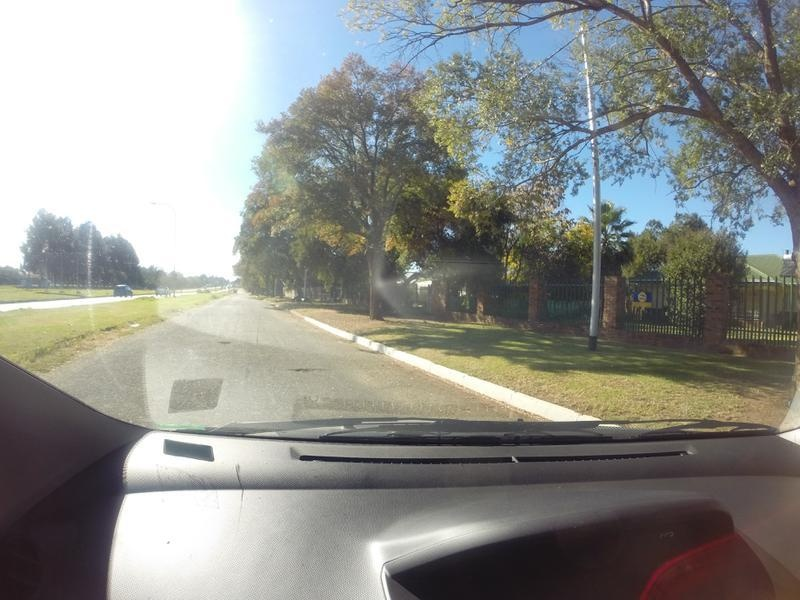pothole: (282, 360, 319, 380), (211, 336, 231, 350)
